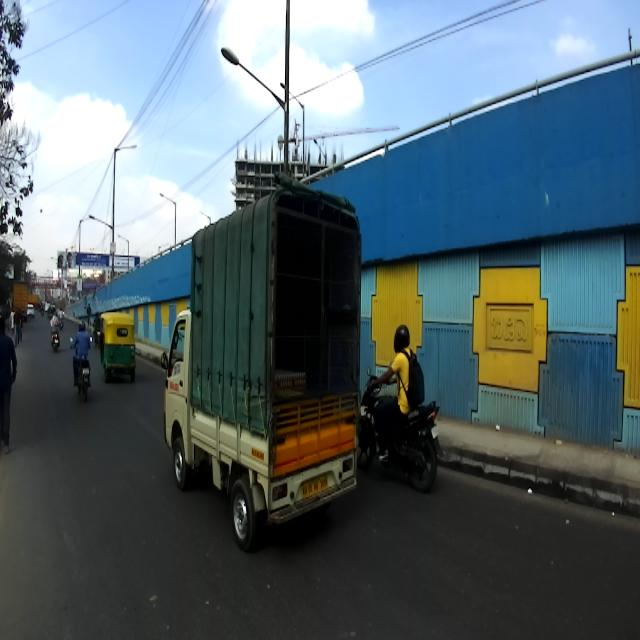car ahead at: (160, 175, 358, 545)
motorcycle ahead at: (362, 322, 443, 494)
